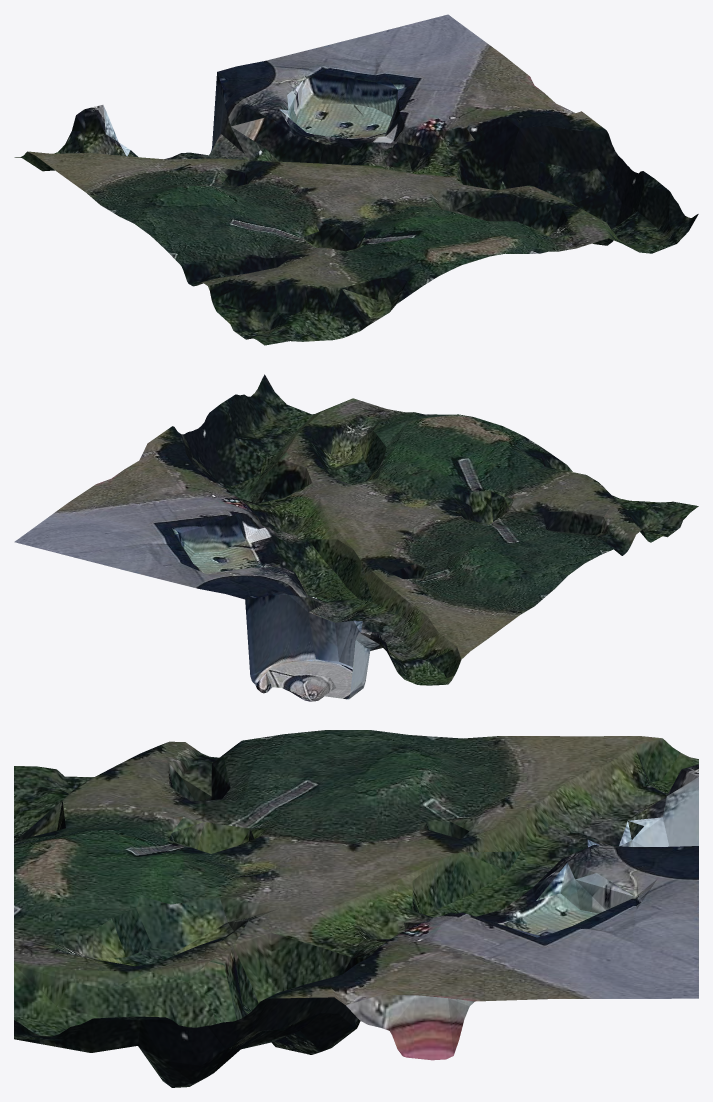
File: map_15_8183_13776.dae
3 views of the same model, one above another, from view 1: azimuth 30°, elevation 25°; view 2: azimuth 150°, elevation 25°; view 3: azimuth 270°, elevation 25° (orthographic). The views are drawn at different scales.
Visible parts, largest first — view 1: Ter0; view 2: Ter0; view 3: Ter0.
Boxes of the visible parts, bbox=[...] form: Ter0: bbox=[14, 14, 698, 345]; Ter0: bbox=[14, 374, 698, 701]; Ter0: bbox=[14, 730, 698, 1087].
Bounding box in the file's own units: 63.87 × 63.88 × 12.83.
Materials: 3 (3 with a texture image).
